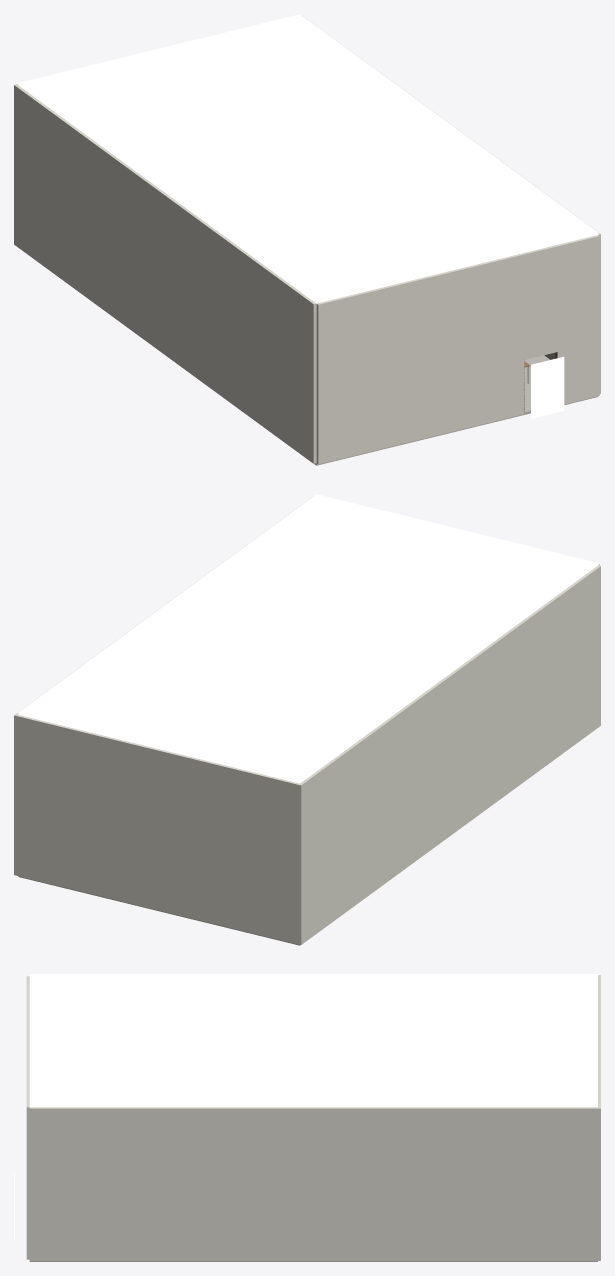
Rendered from room_prison.glb.
3 views of the same model, one above another, from view 1: azimuth 30°, elevation 25°; view 2: azimuth 150°, elevation 25°; view 3: azimuth 270°, elevation 25° (orthographic). The views are drawn at different scales.
Visible parts, largest first — view 1: Room; view 2: Room; view 3: Room.
Part boxes in pixels (bbox=[...]): Room: bbox=[14, 14, 600, 465]; Room: bbox=[14, 494, 600, 945]; Room: bbox=[14, 974, 600, 1261].
Bounding box in the file's own units: 12.24 × 6.7 × 22.73.
28 materials, 1 textured.
